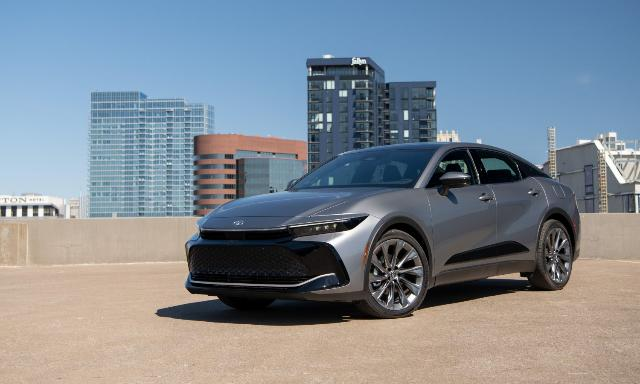toyota: (184, 141, 582, 317)
